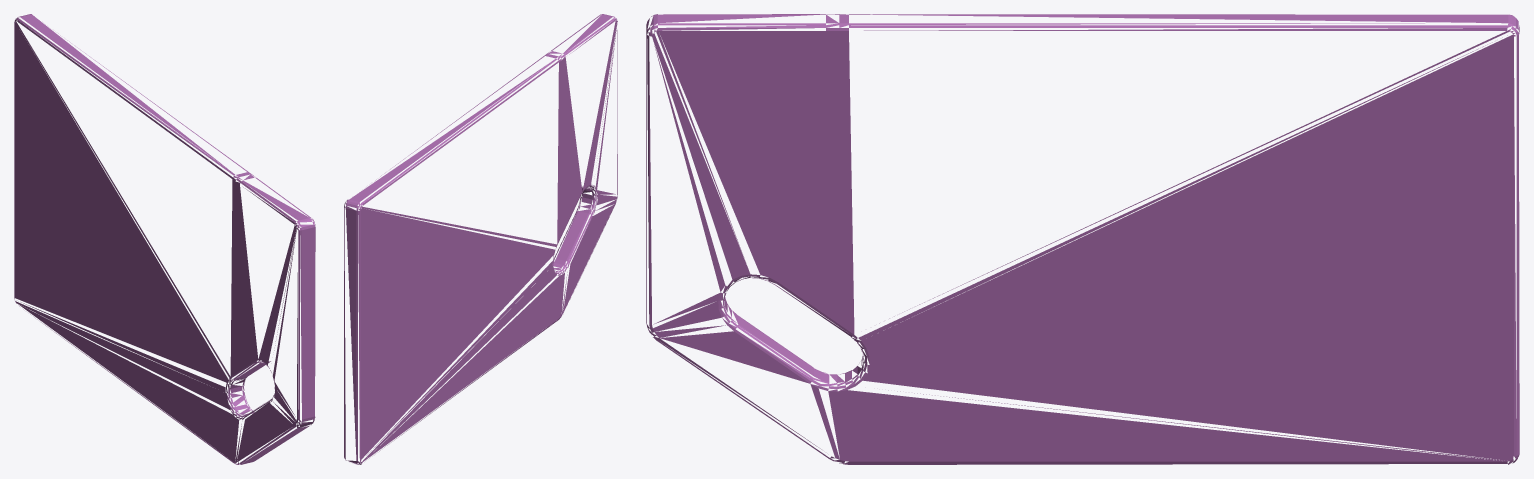
The model's file is kitchenware_cuttingBoard_e01.glb.
The picture shows the model from 3 angles, left to right: view 1: azimuth 30°, elevation 25°; view 2: azimuth 150°, elevation 25°; view 3: azimuth 270°, elevation 25°; orthographic projection. The views are drawn at different scales.
Parts seen in each view (by area): view 1: geometry_0; view 2: geometry_0; view 3: geometry_0.
Boxes of the visible parts, box(x1,y1,x2,y2) form: geometry_0: box(14, 14, 315, 464); geometry_0: box(344, 14, 617, 464); geometry_0: box(646, 14, 1519, 464).
Bounding box in the file's own units: 0.0177 × 0.2676 × 0.48.
